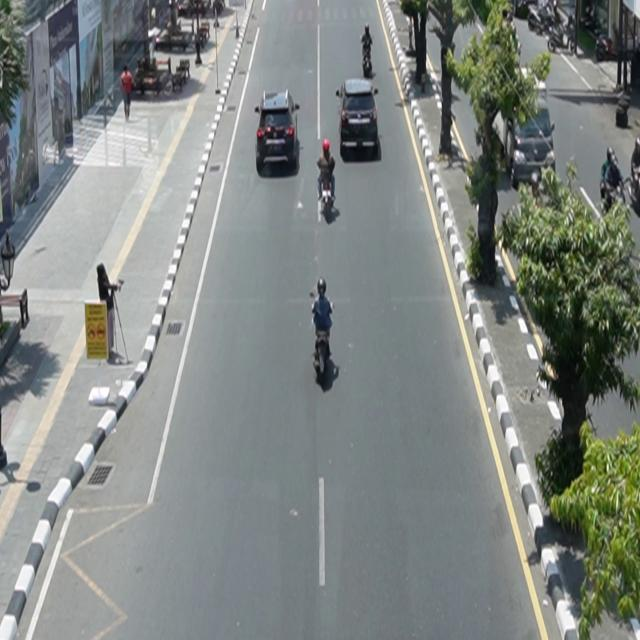car: (255, 90, 301, 170), (336, 79, 380, 160)
